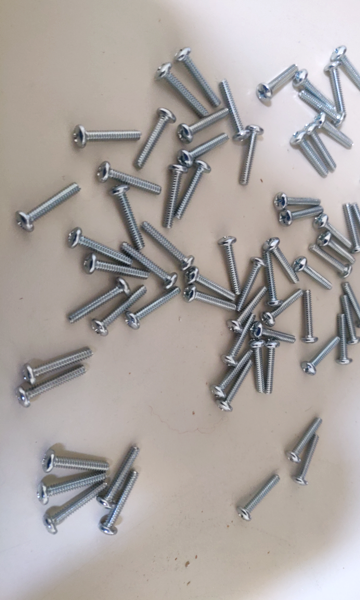longscrew: (88, 284, 148, 338), (64, 280, 130, 328), (174, 49, 227, 107), (44, 484, 107, 532), (17, 178, 77, 228), (133, 105, 178, 170), (123, 284, 183, 331), (19, 369, 92, 406), (23, 344, 95, 381), (99, 448, 142, 509), (160, 65, 210, 117), (96, 162, 164, 200), (102, 474, 144, 535), (124, 242, 178, 286), (237, 474, 282, 524), (68, 229, 134, 263), (210, 346, 254, 397), (212, 361, 256, 412), (143, 224, 195, 267), (178, 162, 215, 222), (112, 186, 146, 249), (220, 80, 252, 144), (223, 312, 262, 364), (178, 107, 230, 143), (37, 476, 106, 502), (175, 132, 229, 165), (291, 130, 327, 179), (40, 449, 109, 474), (285, 420, 323, 463), (266, 235, 300, 283), (230, 289, 269, 330), (295, 69, 338, 106), (187, 266, 235, 299), (70, 127, 145, 148), (306, 122, 336, 174), (236, 259, 266, 311), (165, 159, 187, 228), (314, 112, 356, 148), (238, 126, 262, 188), (296, 430, 321, 488), (259, 62, 297, 100), (316, 214, 355, 251), (319, 231, 358, 268), (314, 243, 353, 280), (298, 92, 346, 122), (303, 337, 340, 375), (295, 258, 334, 294), (263, 289, 304, 323), (221, 235, 242, 300), (79, 260, 150, 279), (327, 60, 349, 118), (183, 287, 234, 311), (331, 48, 360, 89), (340, 203, 360, 256), (341, 297, 360, 348), (269, 193, 320, 211), (274, 207, 325, 225), (252, 326, 300, 344), (337, 312, 352, 368), (264, 249, 278, 308), (253, 339, 266, 399), (266, 339, 278, 399), (305, 286, 316, 350), (344, 282, 360, 326), (353, 202, 360, 255)
